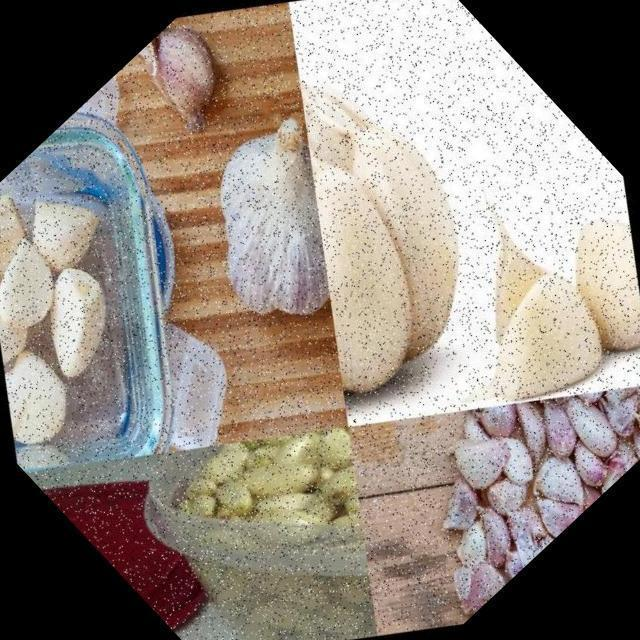garlic: (132, 0, 640, 458), (82, 351, 466, 640), (343, 291, 640, 625), (370, 112, 640, 478), (115, 68, 418, 372), (0, 134, 235, 495), (88, 0, 269, 178)
